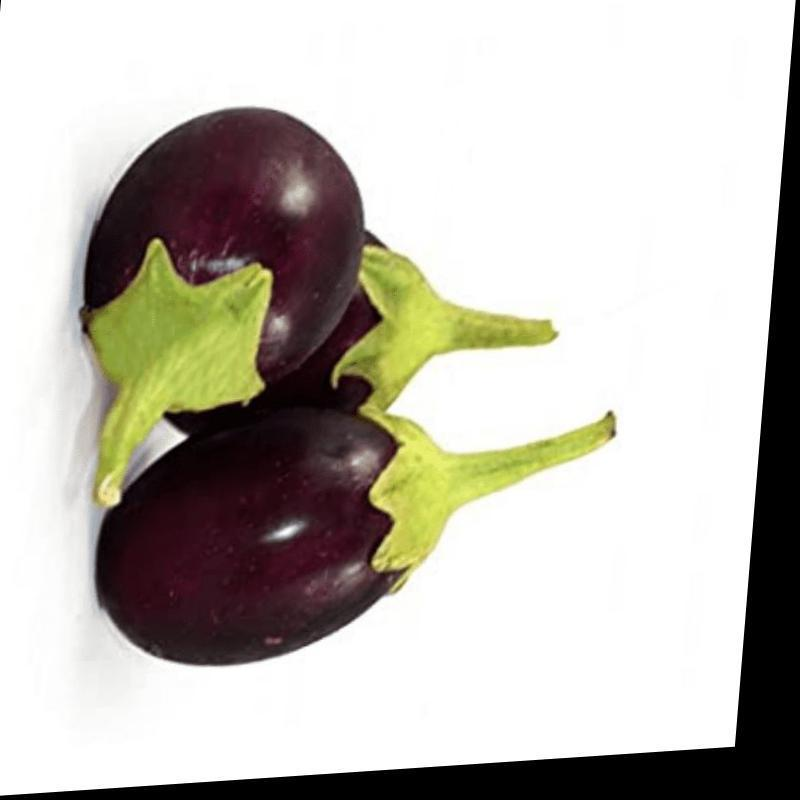eggplant: (62, 104, 632, 586), (53, 69, 420, 497), (86, 390, 534, 727)
